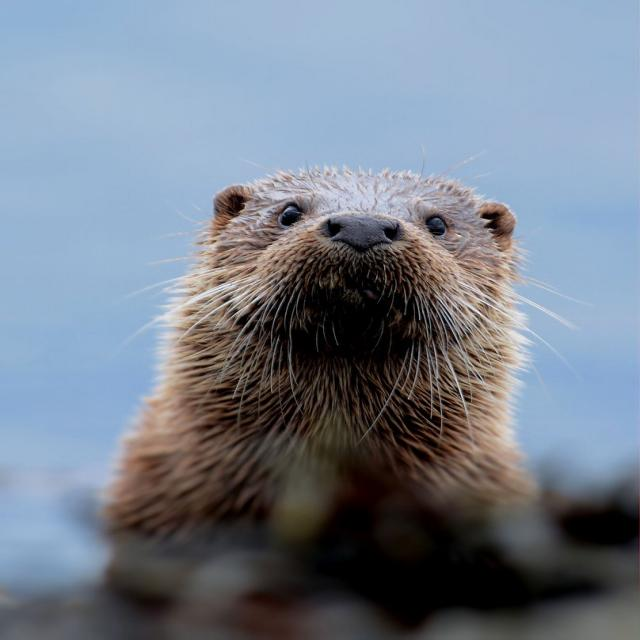otter: (122, 171, 519, 494)
